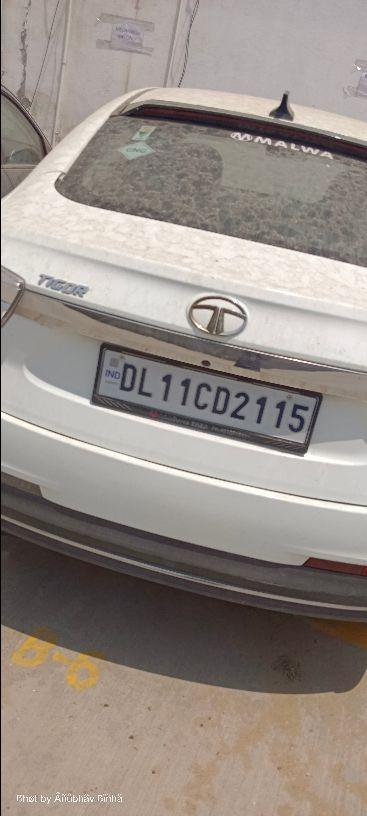license_plate: (90, 340, 323, 455)
